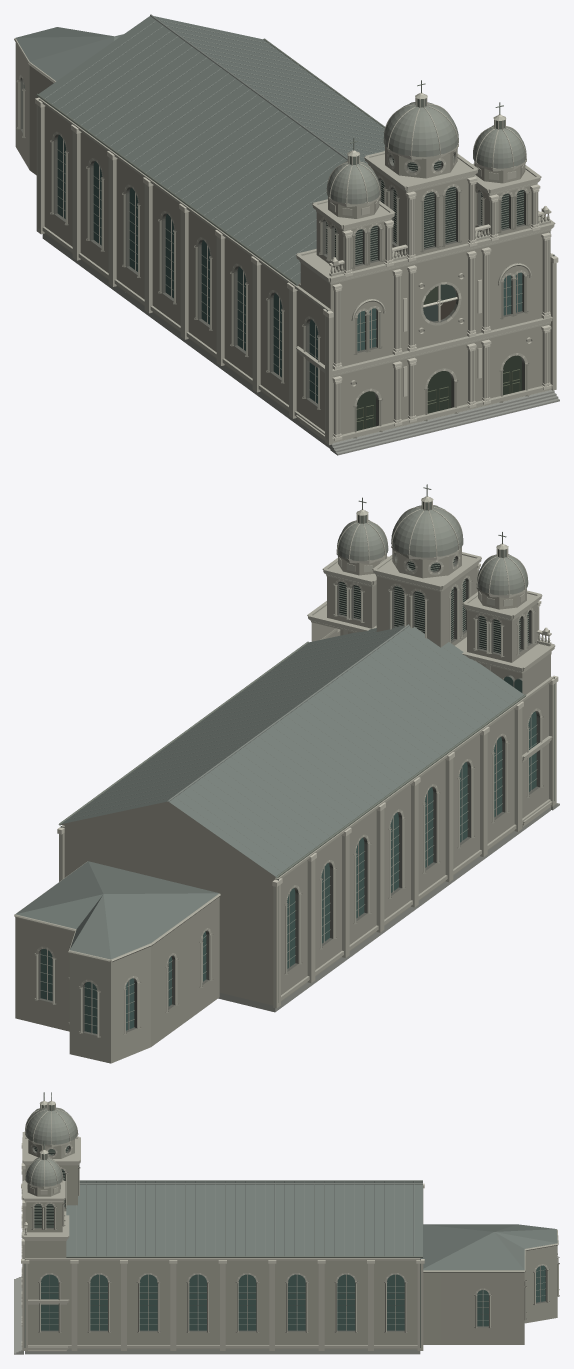
The model's file is cathedral-preview.glb.
3 views of the same model, one above another, from view 1: azimuth 30°, elevation 25°; view 2: azimuth 150°, elevation 25°; view 3: azimuth 270°, elevation 25° (orthographic). The views are drawn at different scales.
Parts seen in each view (by area): view 1: cathedral brick, cathedral roof, cathedral stone, cathedral stoneLight, cathedral roofRib, cathedral dome, cathedral glass, cathedral reveal, cathedral foundation, cathedral metal, cathedral louver, cathedral door; view 2: cathedral roof, cathedral brick, cathedral stone, cathedral roofRib, cathedral glass, cathedral dome, cathedral reveal, cathedral metal, cathedral louver, cathedral foundation, cathedral stoneLight; view 3: cathedral brick, cathedral roof, cathedral stone, cathedral glass, cathedral roofRib, cathedral metal, cathedral foundation, cathedral dome, cathedral stoneLight, cathedral louver, cathedral reveal.
Boxes of the visible parts, <box> form: cathedral brick: <box>15,43,550,436</box>; cathedral roof: <box>16,16,384,284</box>; cathedral stone: <box>14,38,556,445</box>; cathedral stoneLight: <box>19,75,558,440</box>; cathedral roofRib: <box>45,14,384,278</box>; cathedral dome: <box>326,102,526,204</box>; cathedral glass: <box>24,85,522,403</box>; cathedral reveal: <box>20,77,525,426</box>; cathedral foundation: <box>42,233,559,455</box>; cathedral metal: <box>24,38,554,439</box>; cathedral louver: <box>326,157,523,264</box>; cathedral door: <box>356,355,521,430</box>; cathedral roof: <box>15,626,523,959</box>; cathedral brick: <box>15,547,550,1063</box>; cathedral stone: <box>14,497,556,1037</box>; cathedral roofRib: <box>67,624,517,871</box>; cathedral glass: <box>40,676,536,1033</box>; cathedral dome: <box>336,505,528,595</box>; cathedral reveal: <box>38,553,539,1035</box>; cathedral metal: <box>40,484,554,1026</box>; cathedral louver: <box>339,557,528,653</box>; cathedral foundation: <box>218,803,559,1012</box>; cathedral stoneLight: <box>37,496,558,991</box>; cathedral brick: <box>25,1140,557,1349</box>; cathedral roof: <box>66,1181,557,1270</box>; cathedral stone: <box>22,1101,559,1351</box>; cathedral glass: <box>41,1265,545,1330</box>; cathedral roofRib: <box>76,1181,422,1256</box>; cathedral metal: <box>24,1092,545,1347</box>; cathedral foundation: <box>14,1276,420,1354</box>; cathedral dome: <box>25,1107,77,1186</box>; cathedral stoneLight: <box>21,1101,557,1346</box>; cathedral louver: <box>34,1146,68,1227</box>; cathedral reveal: <box>28,1139,546,1331</box>.
Size of the model in its own units: 0.2198 by 0.3 by 0.6599.
